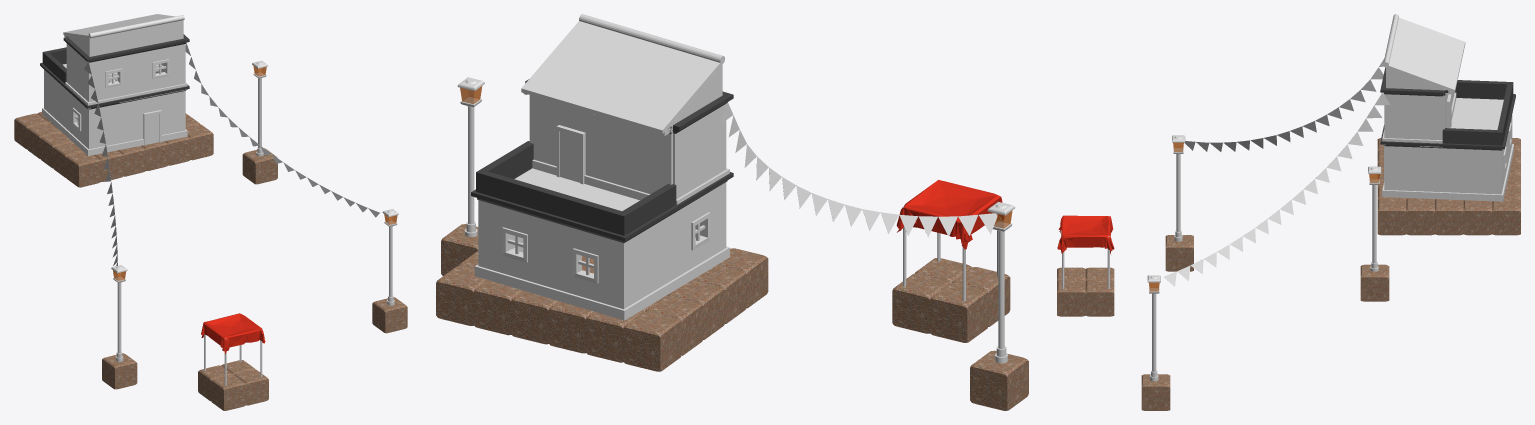
The model's file is AOTPlevel.fbx.
The picture shows the model from 3 angles, left to right: view 1: azimuth 30°, elevation 25°; view 2: azimuth 150°, elevation 25°; view 3: azimuth 270°, elevation 25°; orthographic projection. The views are drawn at different scales.
Visible parts, largest first — view 1: 12_UF_Corner.125, 12_UF_Corner.126, 12_UF_Corner.127, 12_UF_Corner.122, Plane.006, 12_UF_Corner.124, Ground 13.003, Ground 34.017, Ground 34.055, Ground 34.056, Ground 34.057, Cylinder.019 (+21 smaller); view 2: 12_UF_Corner.124, 14_R_Center.124, 14_R_Center.127, 12_UF_Corner.123, 02_GF_Wall.144, 12_UF_Corner.126, 12_UF_Corner.125, 15_R_Corner.045, 15_R_Corner.046, 02_GF_Wall.143, Cylinder.022, Plane.006 (+21 smaller); view 3: 12_UF_Corner.123, 12_UF_Corner.122, 12_UF_Corner.127, 15_R_Corner.046, Cylinder.019, 14_R_Center.127, 14_R_Center.124, Plane.006, 15_R_Corner.045, Cylinder.022, Ground 34.007, Ground 12.002 (+12 smaller).
Boxes of the visible parts, box(x1,y1,x2,y2) form: 12_UF_Corner.125: box(63, 84, 138, 155); 12_UF_Corner.126: box(63, 37, 138, 109); 12_UF_Corner.127: box(137, 34, 189, 99); 12_UF_Corner.122: box(137, 72, 189, 146); Plane.006: box(201, 313, 265, 354); 12_UF_Corner.124: box(40, 63, 66, 134); Ground 13.003: box(211, 375, 246, 410); Ground 34.017: box(66, 152, 101, 187); Ground 34.055: box(372, 297, 407, 333); Ground 34.056: box(102, 353, 137, 389); Ground 34.057: box(242, 148, 277, 184); Cylinder.019: box(185, 43, 379, 217); 12_UF_Corner.124: box(548, 204, 679, 320); 14_R_Center.124: box(592, 35, 724, 134); 14_R_Center.127: box(521, 14, 651, 113); 12_UF_Corner.123: box(471, 189, 550, 298); 02_GF_Wall.144: box(599, 116, 672, 200); 12_UF_Corner.126: box(673, 91, 733, 204); 12_UF_Corner.125: box(675, 172, 733, 288); 15_R_Corner.045: box(476, 141, 598, 213); 15_R_Corner.046: box(550, 184, 676, 235); 02_GF_Wall.143: box(530, 95, 600, 187); Cylinder.022: box(722, 102, 997, 236); Plane.006: box(896, 180, 1002, 249); 12_UF_Corner.123: box(1442, 120, 1510, 201); 12_UF_Corner.122: box(1380, 125, 1442, 199); 12_UF_Corner.127: box(1380, 67, 1442, 147); 15_R_Corner.046: box(1451, 80, 1513, 122); Cylinder.019: box(1164, 93, 1390, 286); 14_R_Center.127: box(1383, 38, 1459, 92); 14_R_Center.124: box(1388, 14, 1465, 67); Plane.006: box(1057, 215, 1114, 254); 15_R_Corner.045: box(1442, 107, 1507, 145); Cylinder.022: box(1184, 58, 1384, 151); Ground 34.007: box(1377, 198, 1406, 235); Ground 12.002: box(1085, 279, 1114, 316).
Size of the model in its own units: 1258 by 1115 by 1620.
9 materials, 1 textured.
